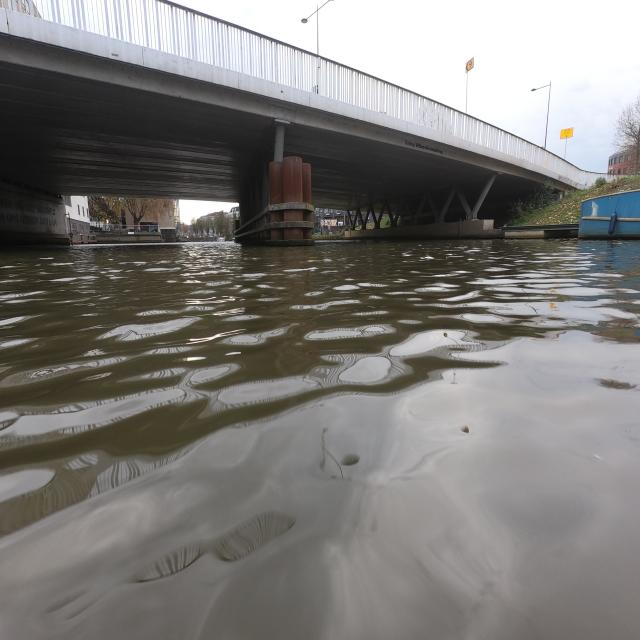boat: (578, 189, 640, 239)
dock: (500, 223, 578, 239)
sky: (186, 4, 638, 174)
wall: (0, 185, 68, 244), (345, 219, 504, 240)
water: (8, 238, 634, 640)
